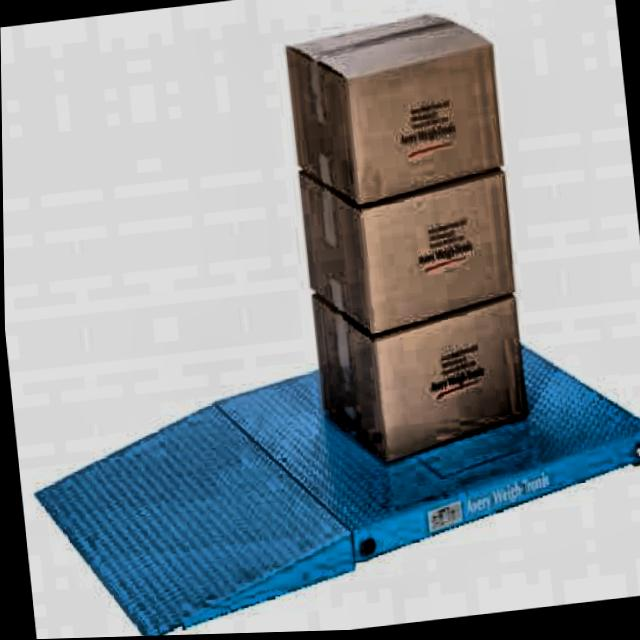Cardbox: (285, 140, 527, 358), (284, 266, 533, 471), (276, 0, 517, 200)
